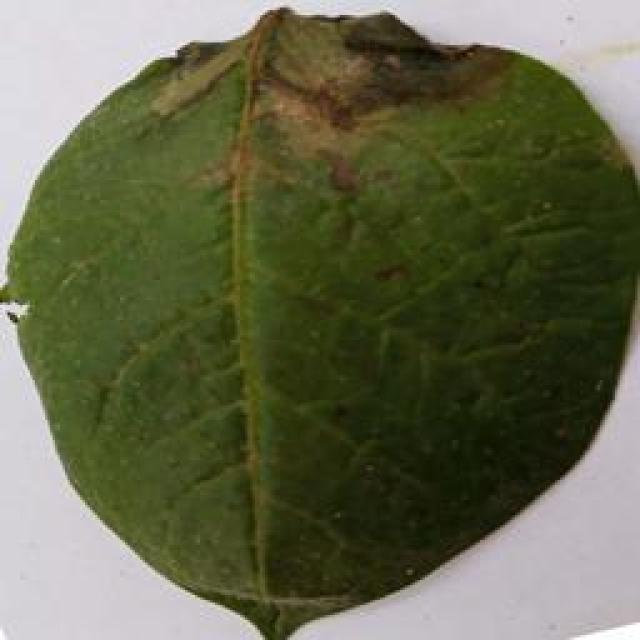Potato_Late_Blight: (10, 9, 638, 637)
